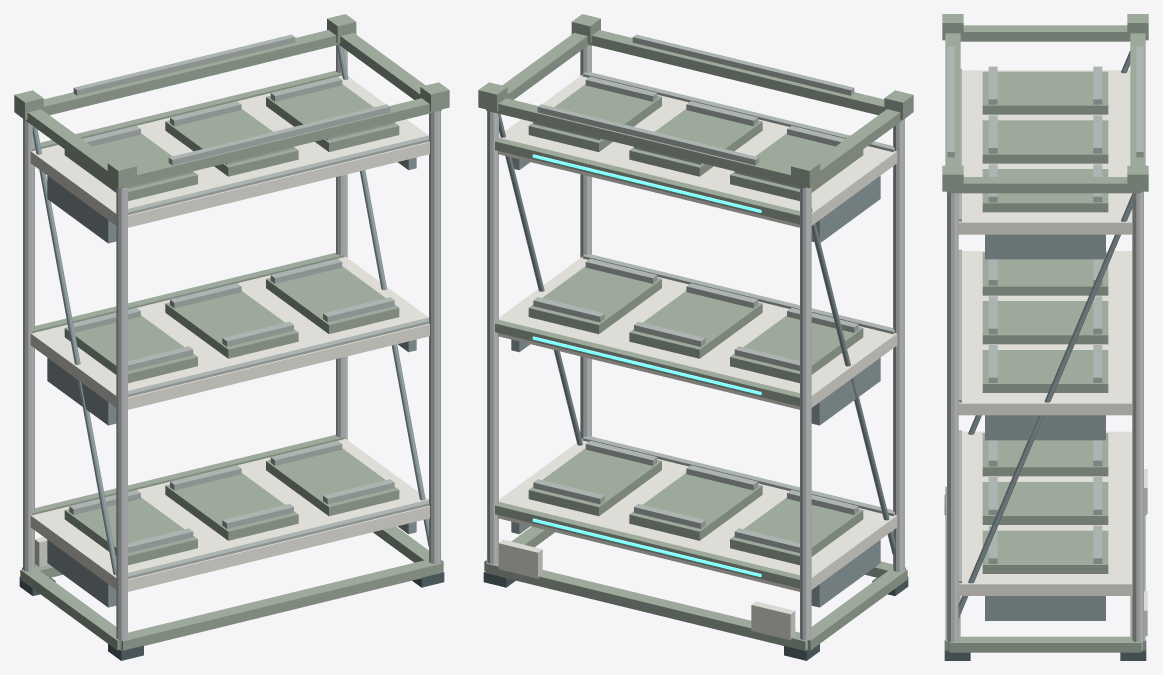
File: s7-e0e1-rm03-mature-tall.glb
The picture shows the model from 3 angles, left to right: view 1: azimuth 30°, elevation 25°; view 2: azimuth 150°, elevation 25°; view 3: azimuth 270°, elevation 25°; orthographic projection.
Parts seen in each view (by area): view 1: tray-load-deck-016, tray-load-deck-022, tray-load-deck-028, rack-long-rail-009, chrome-vertical-post-002, chrome-vertical-post-006, chrome-vertical-post-000, reinforced-empty-carrier-047, reinforced-empty-carrier-059, reinforced-empty-carrier-056, reinforced-empty-carrier-050, rack-long-rail-012 (+39 smaller); view 2: tray-load-deck-016, tray-load-deck-022, tray-load-deck-028, chrome-vertical-post-000, chrome-vertical-post-004, chrome-vertical-post-002, rack-long-rail-008, reinforced-empty-carrier-047, reinforced-empty-carrier-059, reinforced-empty-carrier-056, reinforced-empty-carrier-050, rack-long-rail-013 (+44 smaller); view 3: tray-load-deck-022, tray-load-deck-016, tray-load-deck-028, chrome-vertical-post-004, chrome-vertical-post-006, reinforced-empty-carrier-065, reinforced-empty-carrier-062, reinforced-empty-carrier-050, reinforced-empty-carrier-056, reinforced-empty-carrier-047, reinforced-empty-carrier-059, reinforced-empty-carrier-053 (+32 smaller).
Part boxes in pixels (x1=…): tray-load-deck-016: x1=30, y1=439, x2=429, y2=591; tray-load-deck-022: x1=30, y1=256, x2=429, y2=409; tray-load-deck-028: x1=30, y1=75, x2=429, y2=227; rack-long-rail-009: x1=121, y1=560, x2=441, y2=650; chrome-vertical-post-002: x1=116, y1=187, x2=127, y2=649; chrome-vertical-post-006: x1=429, y1=111, x2=440, y2=563; chrome-vertical-post-000: x1=23, y1=119, x2=34, y2=571; reinforced-empty-carrier-047: x1=165, y1=473, x2=298, y2=540; reinforced-empty-carrier-059: x1=266, y1=266, x2=399, y2=333; reinforced-empty-carrier-056: x1=165, y1=291, x2=298, y2=358; reinforced-empty-carrier-050: x1=266, y1=448, x2=399, y2=516; rack-long-rail-012: x1=43, y1=30, x2=338, y2=115; tray-load-deck-016: x1=498, y1=439, x2=897, y2=591; tray-load-deck-022: x1=498, y1=256, x2=897, y2=409; tray-load-deck-028: x1=498, y1=74, x2=897, y2=227; chrome-vertical-post-000: x1=800, y1=187, x2=811, y2=649; chrome-vertical-post-004: x1=487, y1=111, x2=498, y2=563; chrome-vertical-post-002: x1=893, y1=119, x2=904, y2=571; rack-long-rail-008: x1=486, y1=562, x2=806, y2=650; reinforced-empty-carrier-047: x1=629, y1=473, x2=762, y2=540; reinforced-empty-carrier-059: x1=528, y1=266, x2=661, y2=333; reinforced-empty-carrier-056: x1=629, y1=291, x2=762, y2=358; reinforced-empty-carrier-050: x1=528, y1=448, x2=661, y2=516; rack-long-rail-013: x1=589, y1=30, x2=884, y2=115; tray-load-deck-022: x1=958, y1=251, x2=1132, y2=415; tray-load-deck-016: x1=958, y1=431, x2=1132, y2=595; tray-load-deck-028: x1=958, y1=70, x2=1132, y2=234; chrome-vertical-post-004: x1=1132, y1=191, x2=1143, y2=650; chrome-vertical-post-006: x1=947, y1=191, x2=958, y2=650; reinforced-empty-carrier-065: x1=982, y1=120, x2=1108, y2=163; reinforced-empty-carrier-062: x1=982, y1=71, x2=1108, y2=114; reinforced-empty-carrier-050: x1=982, y1=530, x2=1108, y2=573; reinforced-empty-carrier-056: x1=982, y1=301, x2=1108, y2=344; reinforced-empty-carrier-047: x1=982, y1=482, x2=1108, y2=524; reinforced-empty-carrier-059: x1=982, y1=350, x2=1108, y2=392; reinforced-empty-carrier-053: x1=982, y1=252, x2=1108, y2=295.
Size of the model in its own units: 1.6 by 2.27 by 0.87.
